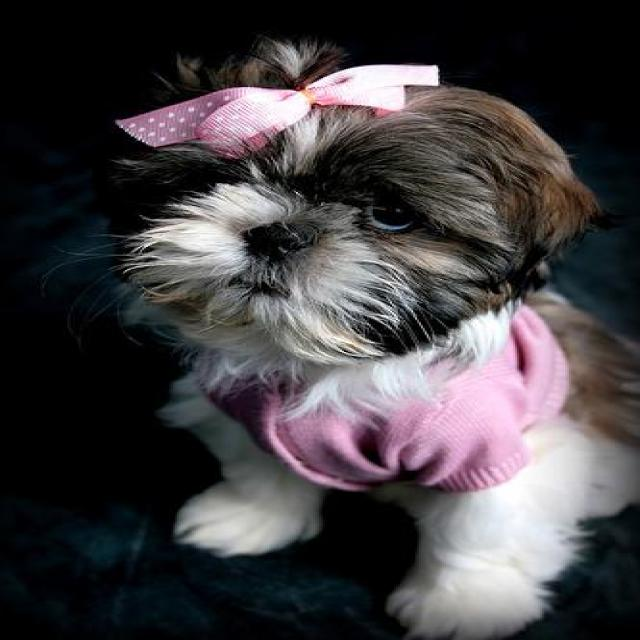sitting: (93, 41, 640, 640)
